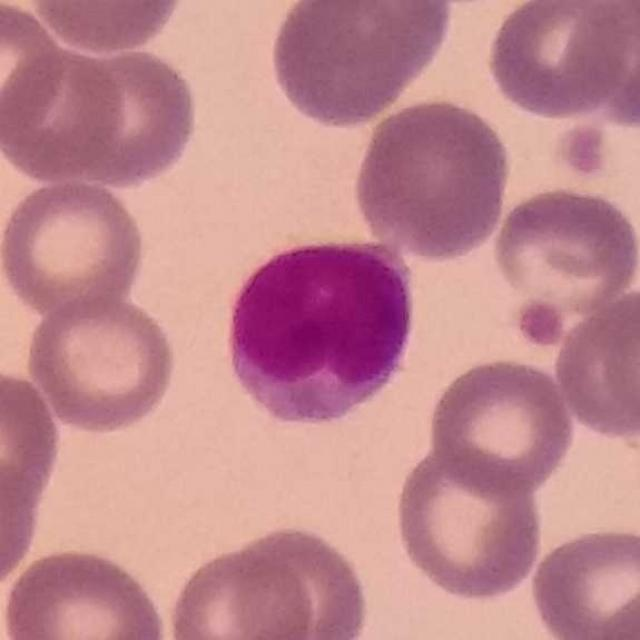Lymphocyte: (218, 230, 422, 430)
RBC: (348, 94, 516, 262), (389, 443, 546, 604), (264, 0, 453, 131), (486, 180, 640, 336), (22, 292, 182, 438), (424, 353, 579, 497), (56, 42, 202, 192), (0, 174, 149, 320), (483, 0, 637, 121), (0, 42, 128, 187), (220, 520, 374, 640), (0, 543, 171, 640), (163, 533, 317, 640), (551, 283, 640, 443), (525, 522, 640, 640), (0, 364, 66, 518), (567, 0, 640, 134), (0, 0, 67, 142), (26, 0, 190, 56), (0, 451, 47, 595), (591, 579, 640, 640)
